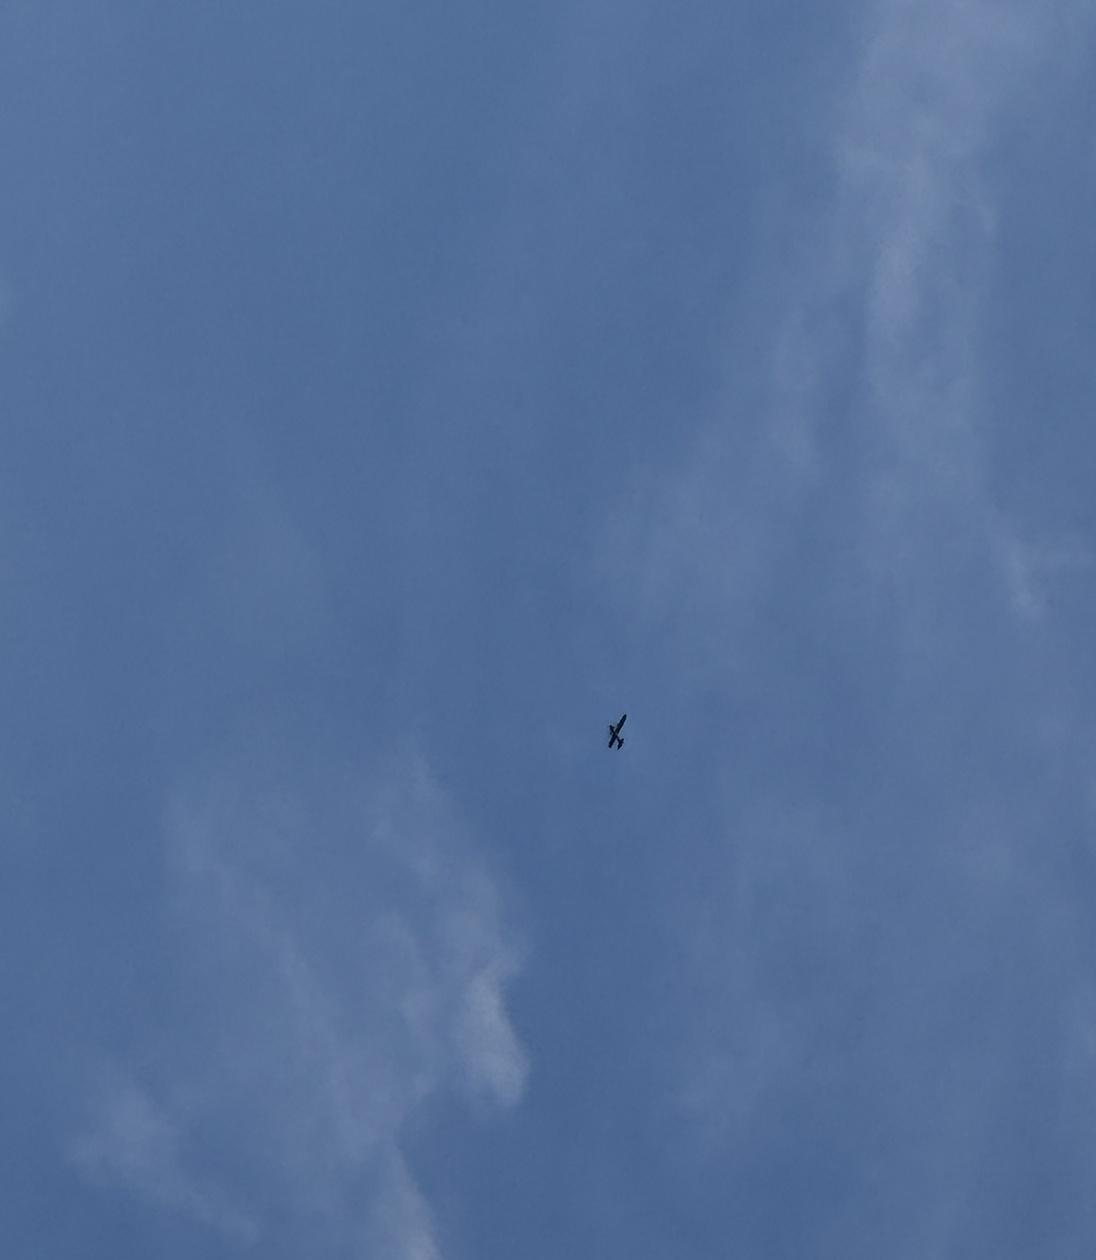Plane: (589, 695, 643, 770)
